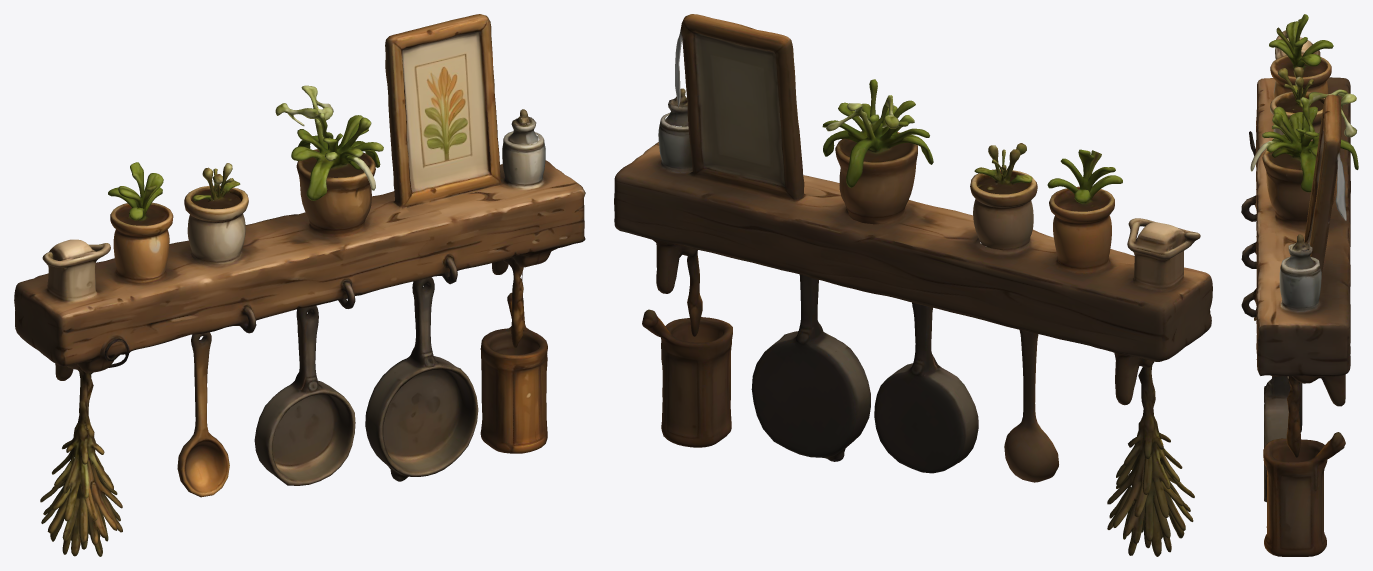
The model's file is wall-shelf.glb.
The picture shows the model from 3 angles, left to right: view 1: azimuth 30°, elevation 25°; view 2: azimuth 150°, elevation 25°; view 3: azimuth 270°, elevation 25°; orthographic projection. The views are drawn at different scales.
Visible parts, largest first — view 1: tripo_node_933bb22c; view 2: tripo_node_933bb22c; view 3: tripo_node_933bb22c.
Boxes of the visible parts, bbox=[...] form: tripo_node_933bb22c: bbox=[14, 14, 585, 556]; tripo_node_933bb22c: bbox=[614, 14, 1212, 556]; tripo_node_933bb22c: bbox=[1241, 14, 1358, 556].
Size of the model in its own units: 97.85 by 74.43 by 19.42.
1 material, 1 textured.
